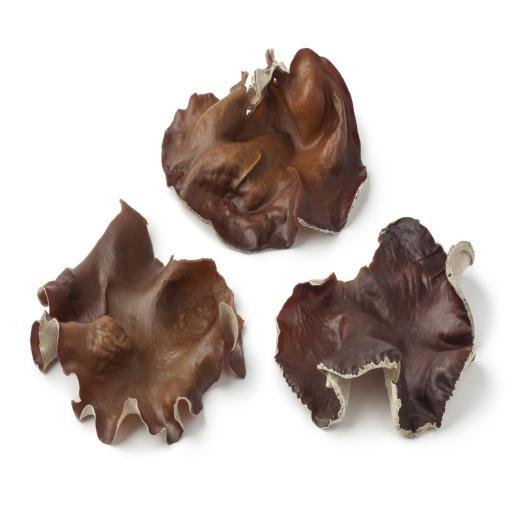mushroom: (16, 184, 259, 464), (268, 212, 482, 470), (150, 29, 371, 257)
